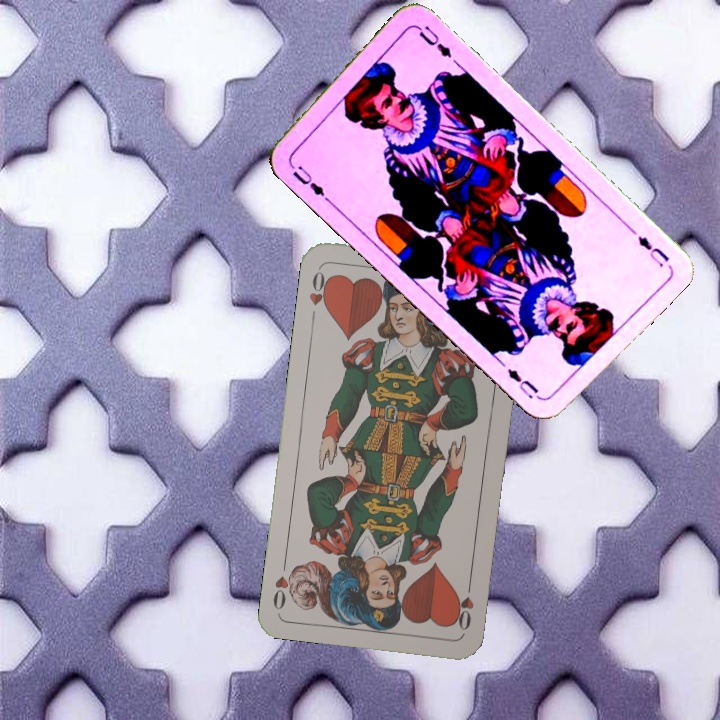EU: (288, 161, 333, 206), (633, 231, 672, 270)
HO: (305, 265, 333, 324), (451, 576, 477, 634)
